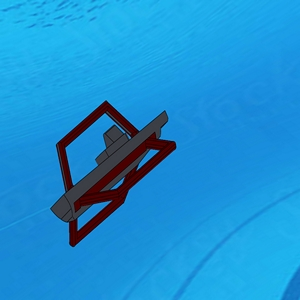submarine: (51, 96, 177, 240)
